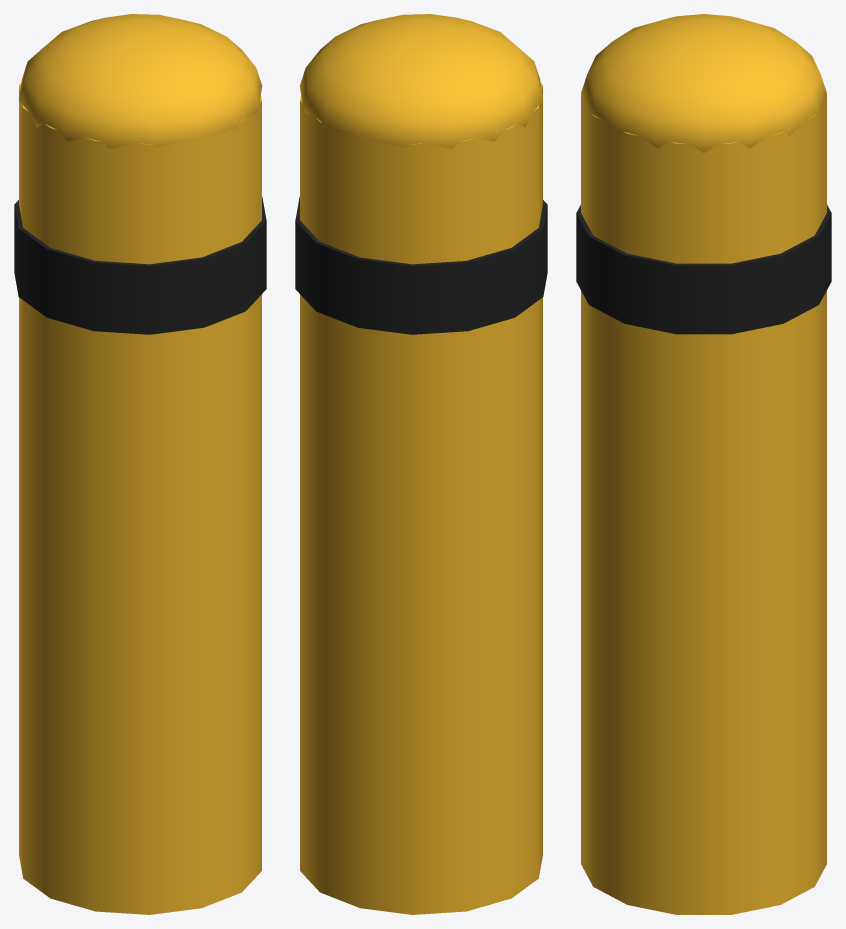
The model's file is parking_bollard.glb.
3 renders of one model, left to right at view 1: azimuth 30°, elevation 25°; view 2: azimuth 150°, elevation 25°; view 3: azimuth 270°, elevation 25°, orthographic.
Parts seen in each view (by area): view 1: Bollard; view 2: Bollard; view 3: Bollard.
Part boxes in pixels (bbox=[...]): Bollard: bbox=[14, 14, 266, 914]; Bollard: bbox=[295, 14, 547, 914]; Bollard: bbox=[576, 14, 831, 914].
Size of the model in its own units: 0.2632 by 0.97 by 0.27.
